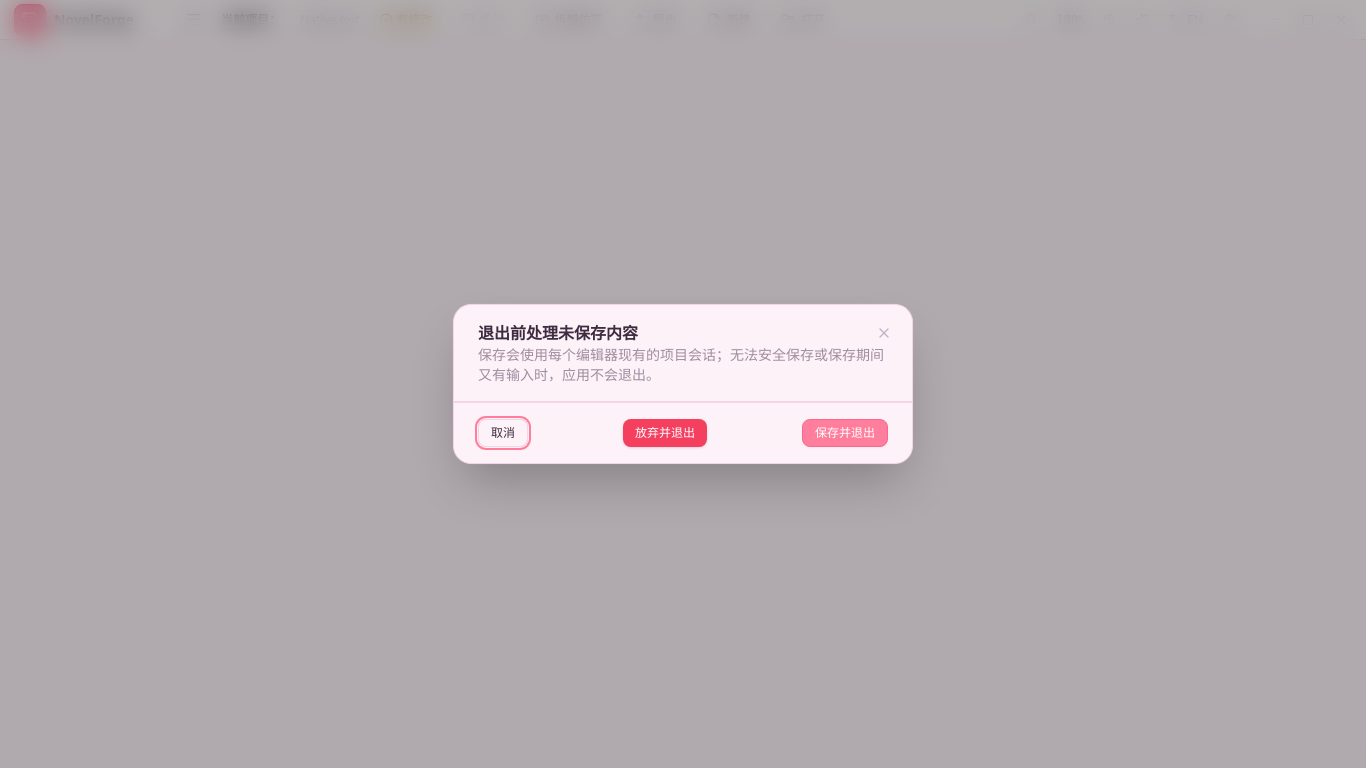
Test case: TitleBar native exit settlement › keeps unsaved changes when discard-and-exit hits a business failure
What coordinates should you click on to do the following:
click the button "放弃并退出"
I would click on:
 (665, 433)
Its box is left=623, top=419, right=707, bottom=447.
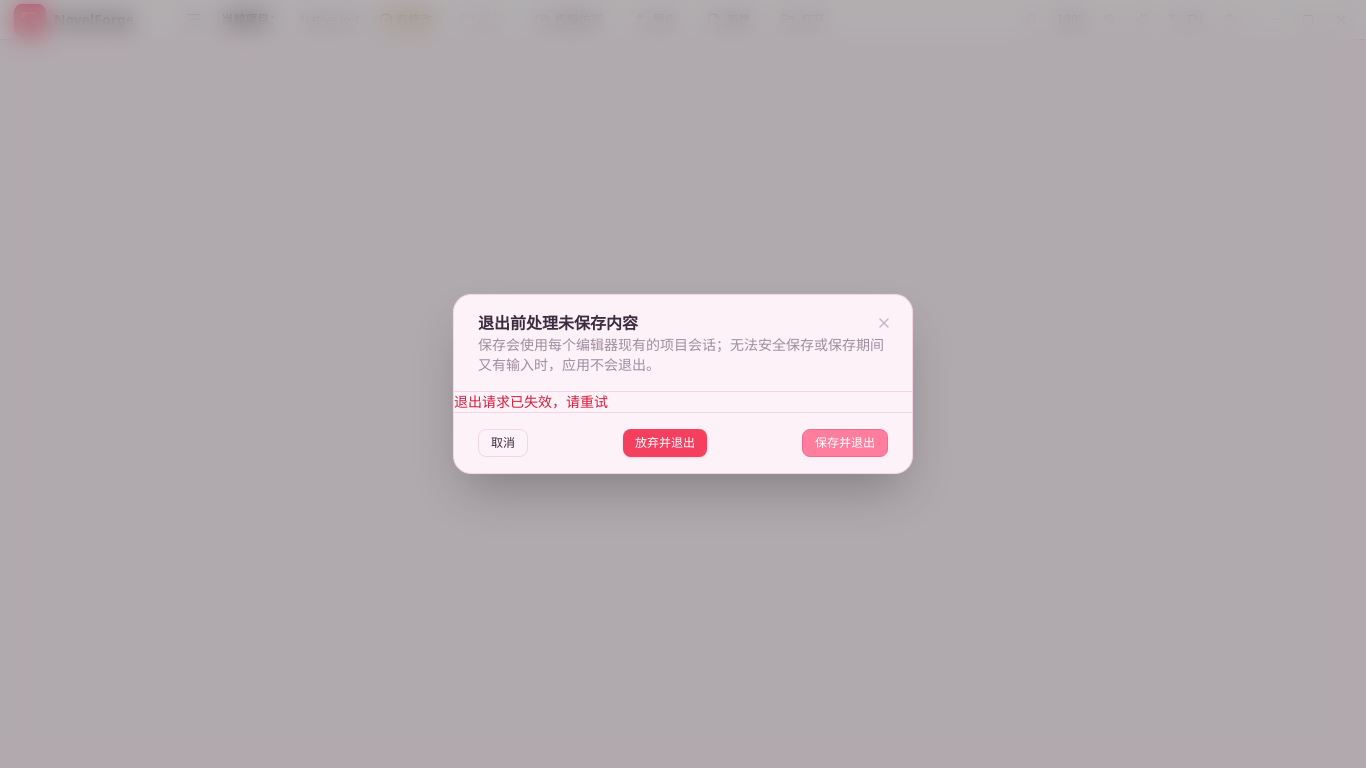
Check: the text "退出请求已失效，请重试" is shown, box left=454, top=392, right=608, bottom=411
